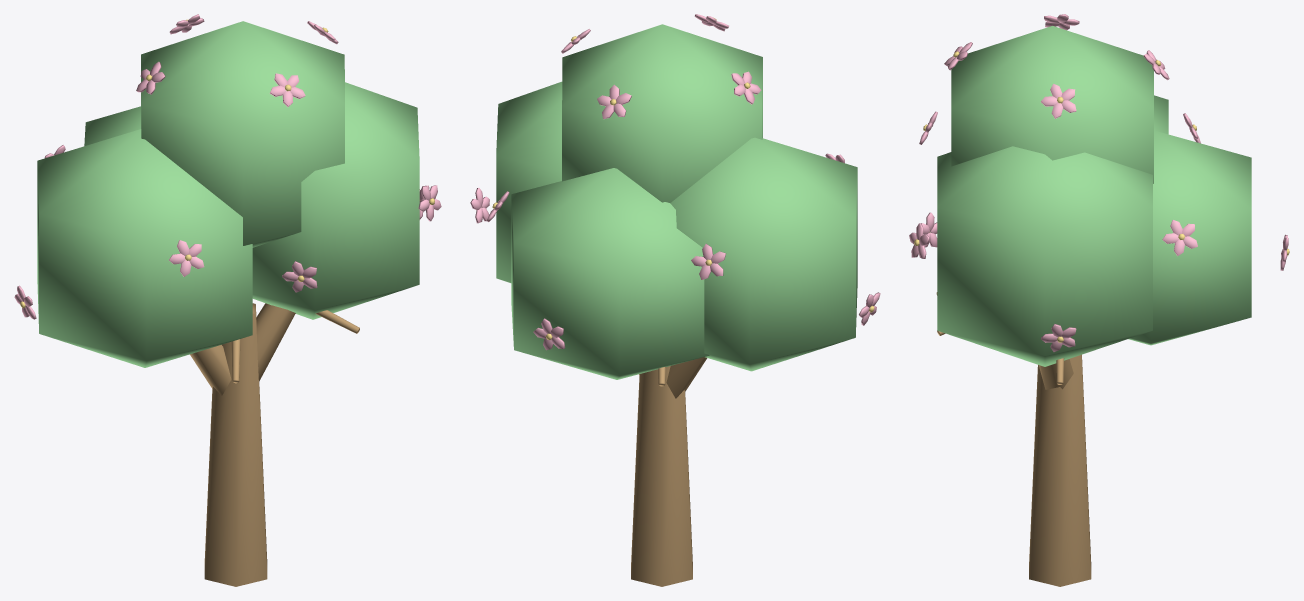
The model's file is tree_harvest_spring_low.glb.
The picture shows the model from 3 angles, left to right: view 1: azimuth 30°, elevation 25°; view 2: azimuth 150°, elevation 25°; view 3: azimuth 270°, elevation 25°; orthographic projection.
Size of the model in its own units: 2.46 by 3.19 by 2.01.
